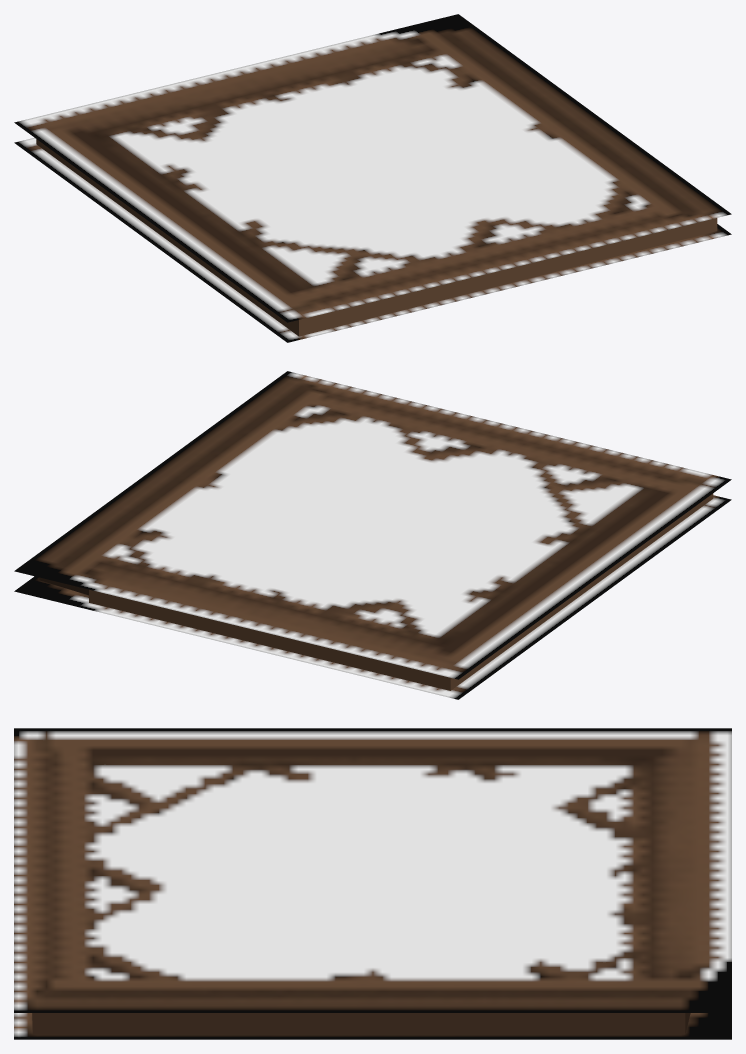
File: pz_native_fixtures_windows_church_125_frame.obj
The picture shows the model from 3 angles, top to bottom: view 1: azimuth 30°, elevation 25°; view 2: azimuth 150°, elevation 25°; view 3: azimuth 270°, elevation 25°; orthographic projection. The views are drawn at different scales.
Visible parts, largest first — view 1: pz_native_fixtures_windows_church_125_frame; view 2: pz_native_fixtures_windows_church_125_frame; view 3: pz_native_fixtures_windows_church_125_frame.
Part boxes in pixels (left/top/right/bottom): pz_native_fixtures_windows_church_125_frame: left=14, top=14, right=731, bottom=342; pz_native_fixtures_windows_church_125_frame: left=14, top=371, right=731, bottom=699; pz_native_fixtures_windows_church_125_frame: left=14, top=728, right=731, bottom=1039.
Bounding box in the file's own units: 0.9219 × 0.04 × 0.9823.
Materials: 1 (1 with a texture image).
